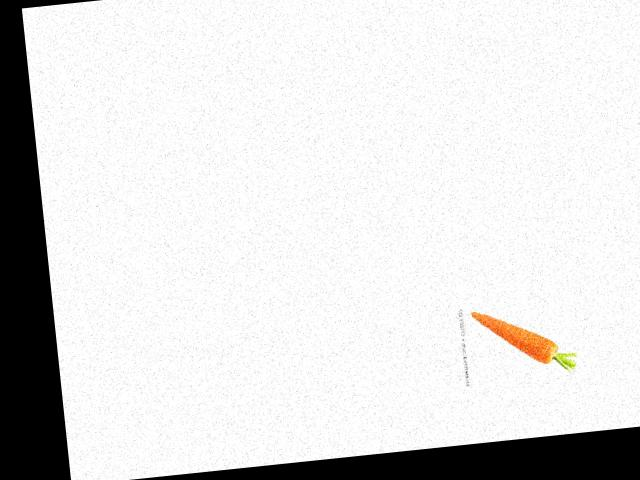carrot: (467, 297, 566, 380)
